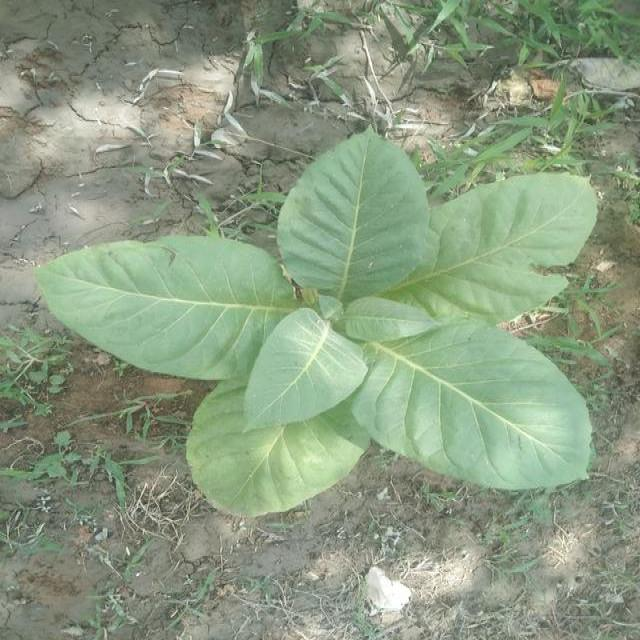crop: (44, 139, 599, 530)
